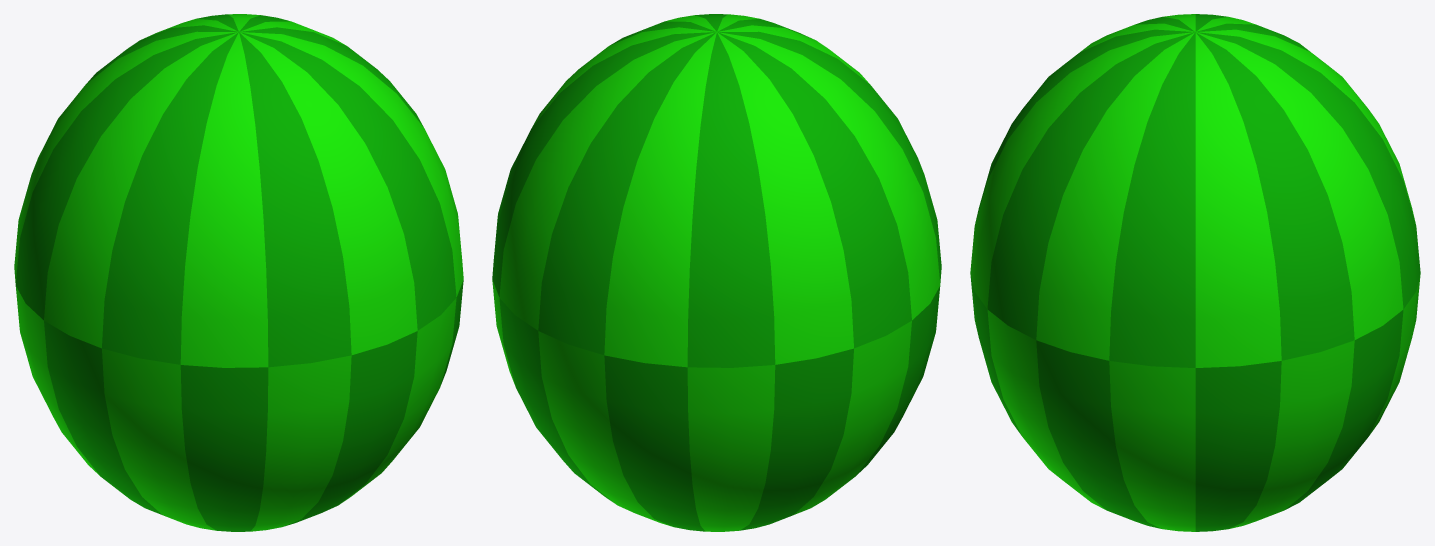
Rendered from Fruit_Watermelon_Sliced.fbx.
3 views of the same model, side by side, from view 1: azimuth 30°, elevation 25°; view 2: azimuth 150°, elevation 25°; view 3: azimuth 270°, elevation 25° (orthographic).
Visible parts, largest first — view 1: Top, Bottom; view 2: Top, Bottom; view 3: Top, Bottom.
Part boxes in pixels (box(x1,y1,x2,y2)): Top: box(14, 14, 463, 367); Bottom: box(15, 280, 463, 531); Top: box(492, 14, 941, 367); Bottom: box(492, 280, 940, 531); Top: box(970, 14, 1420, 367); Bottom: box(970, 274, 1420, 531).
Size of the model in its own units: 200 by 236 by 200.
